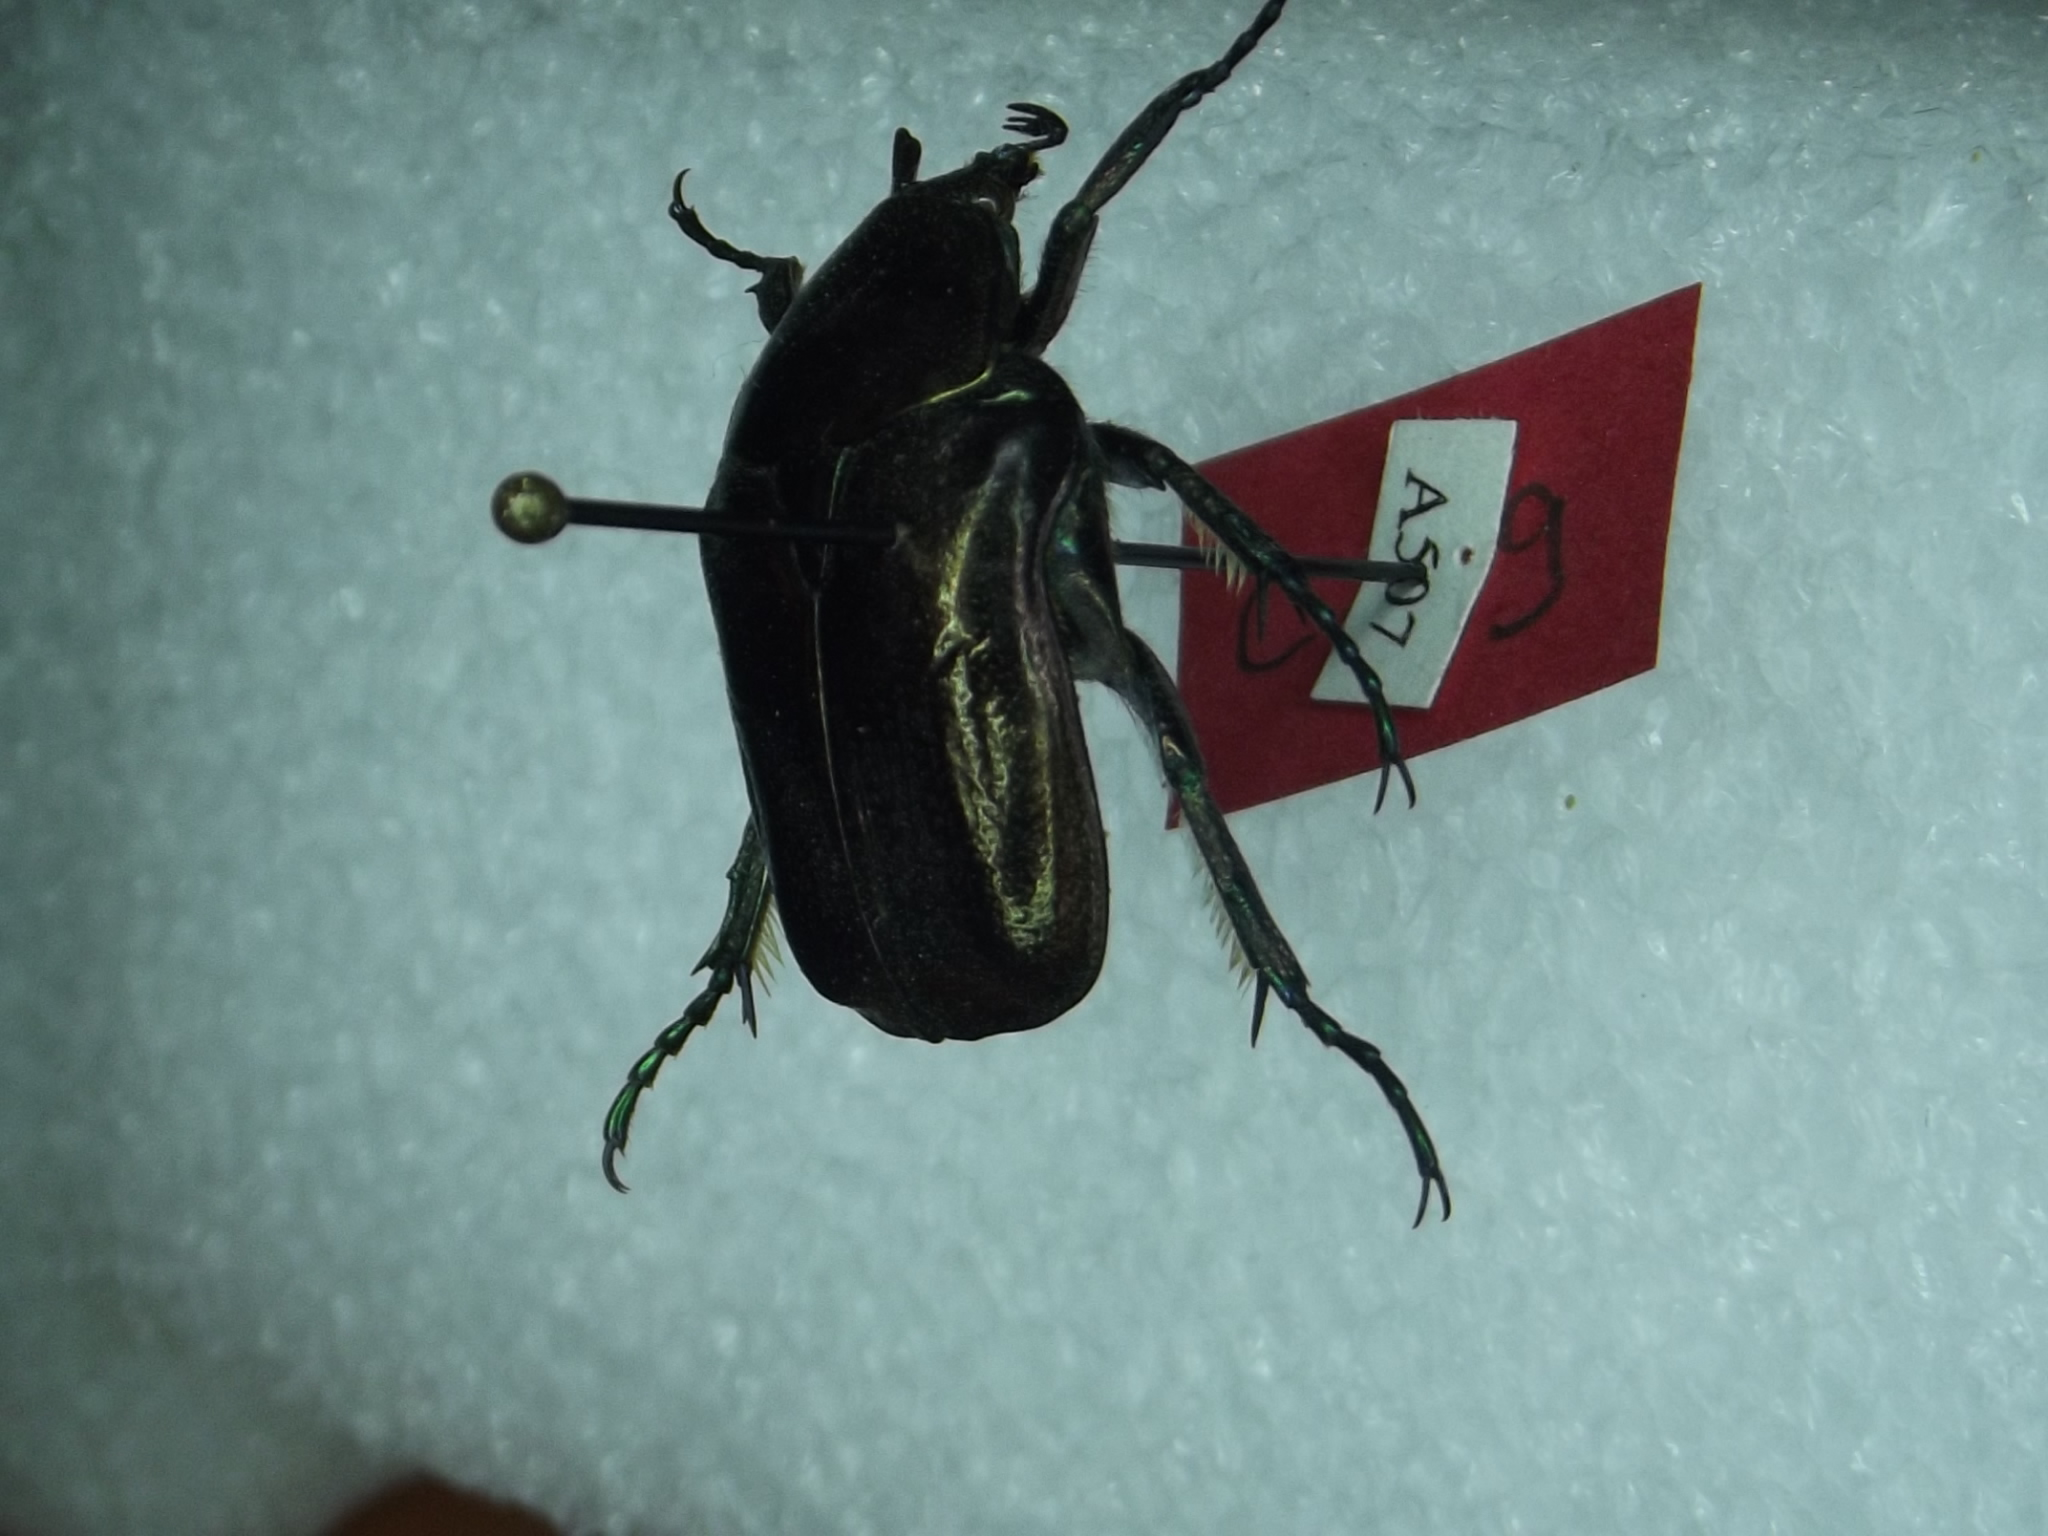Protaetia_besucheti: (584, 2, 1546, 1313)
